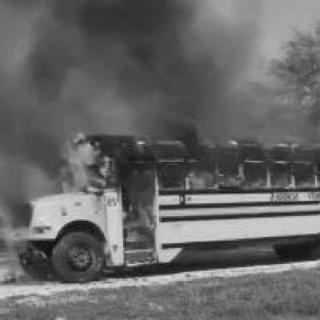Fire: (45, 133, 318, 210)
Smoke: (5, 0, 264, 124)
